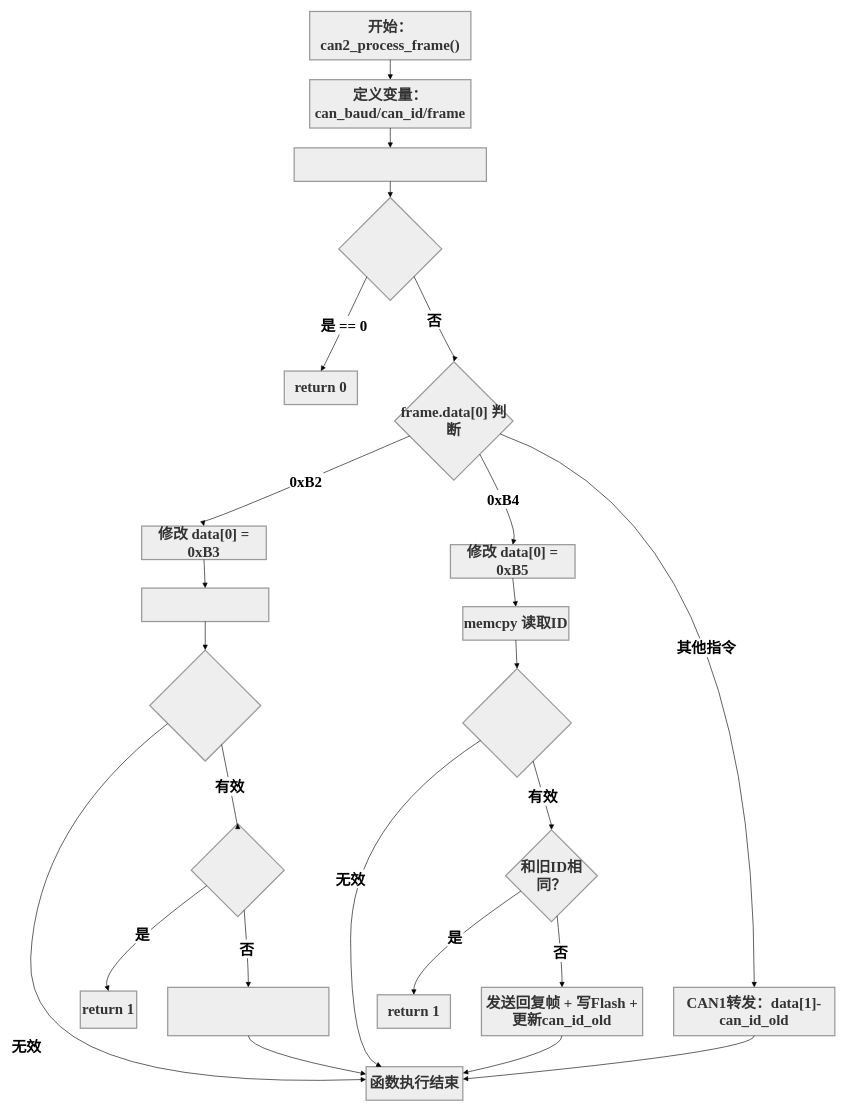
The diagram is 846 pixels wide and 1111 high, and some of its shapes have lost their labels. Each missing label, with the centre of its shape:
"CAN2_Read_Frame(&frame)" goes at (390,164).
"ID 合法(1~255)？" goes at (517,722).
"memcpy 读取波特率" goes at (205,604).
"发送回复帧 + 写Flash + 更新can_baud_old" goes at (248,1011).
"和旧值相同？" goes at (237,870).
"波特率有效？ 250/500/1000" goes at (205,705).
"队列是否为空？" goes at (390,249).
